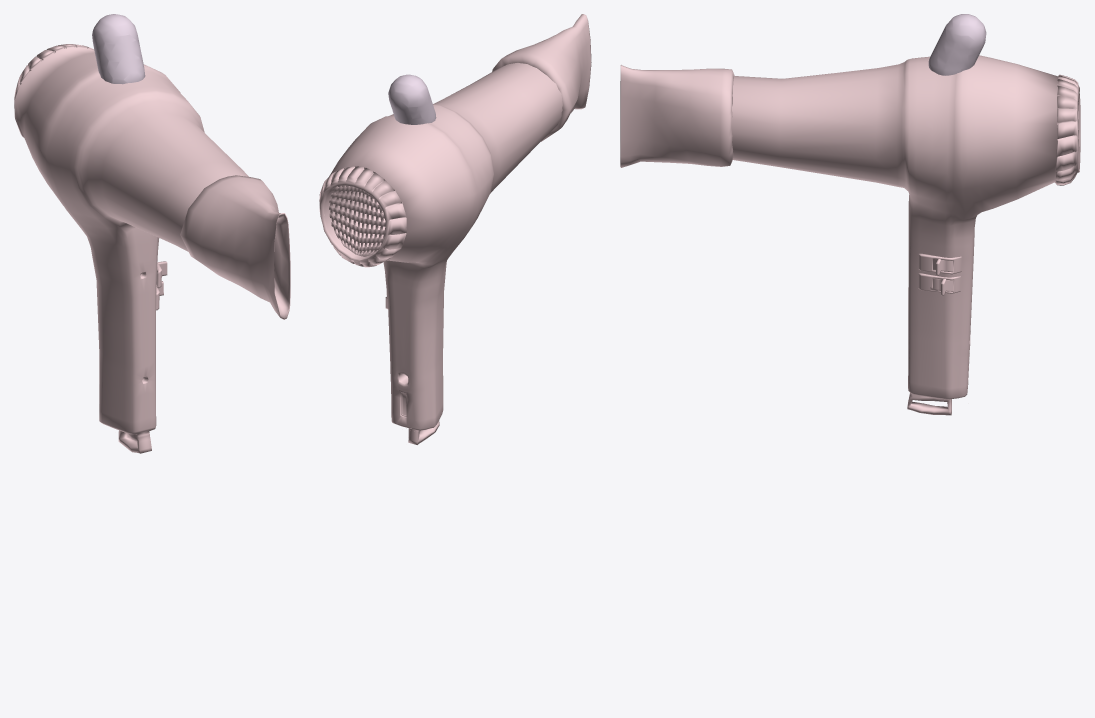
The model's file is hairdryer.glb.
The picture shows the model from 3 angles, left to right: view 1: azimuth 30°, elevation 25°; view 2: azimuth 150°, elevation 25°; view 3: azimuth 270°, elevation 25°; orthographic projection. The views are drawn at different scales.
Visible parts, largest first — view 1: uploads_files_2749136_HairDryerOBJ, Mball.001; view 2: uploads_files_2749136_HairDryerOBJ, Mball.001; view 3: uploads_files_2749136_HairDryerOBJ, Mball.001.
Part boxes in pixels (x1,y1,x2,y2): uploads_files_2749136_HairDryerOBJ: [14, 44, 290, 453]; Mball.001: [92, 14, 145, 84]; uploads_files_2749136_HairDryerOBJ: [319, 14, 591, 444]; Mball.001: [388, 74, 436, 124]; uploads_files_2749136_HairDryerOBJ: [620, 55, 1080, 415]; Mball.001: [928, 14, 986, 75].
Bounding box in the file's own units: 8.35 × 39.24 × 24.55.
